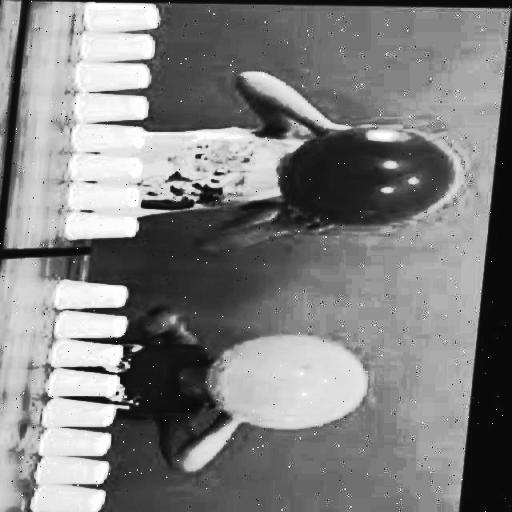balloon: (272, 124, 466, 232), (208, 331, 382, 430)
